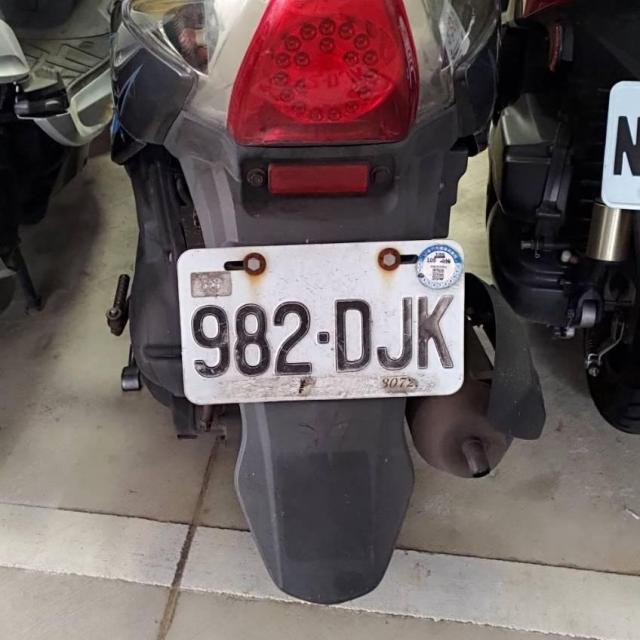W: (171, 233, 471, 405)
